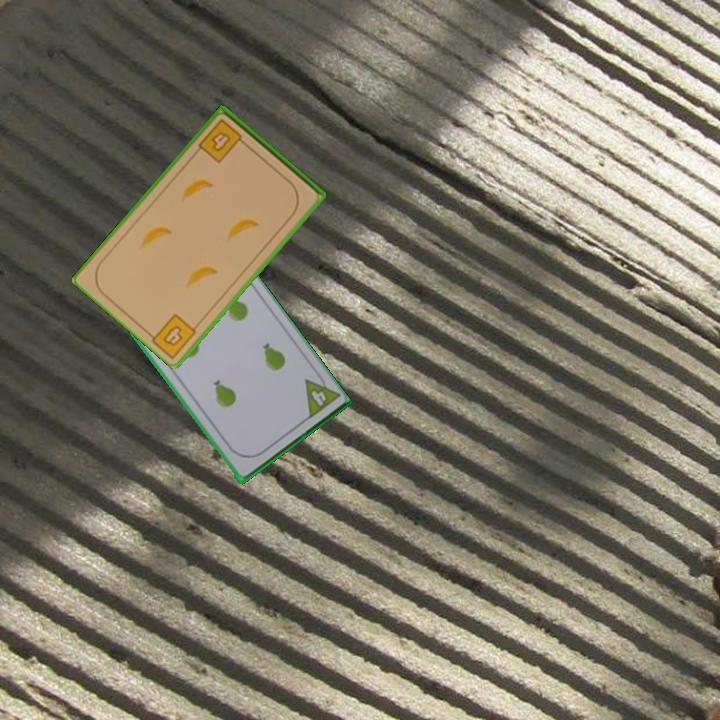4b: (195, 115, 250, 166), (159, 322, 186, 349)
4p: (307, 386, 329, 409)
